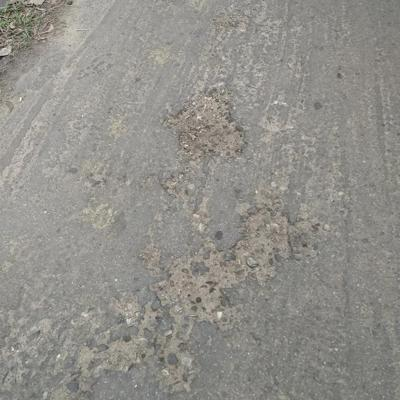pothole: (150, 242, 232, 324), (159, 87, 247, 163), (230, 204, 296, 283)
